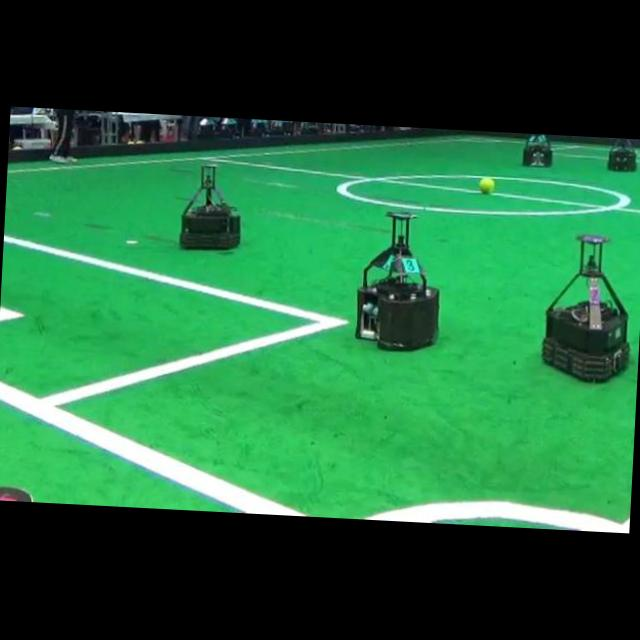ball: (478, 178, 495, 193)
robot: (542, 235, 629, 382), (355, 213, 438, 349), (179, 165, 240, 248), (522, 134, 552, 167), (607, 144, 636, 171)
